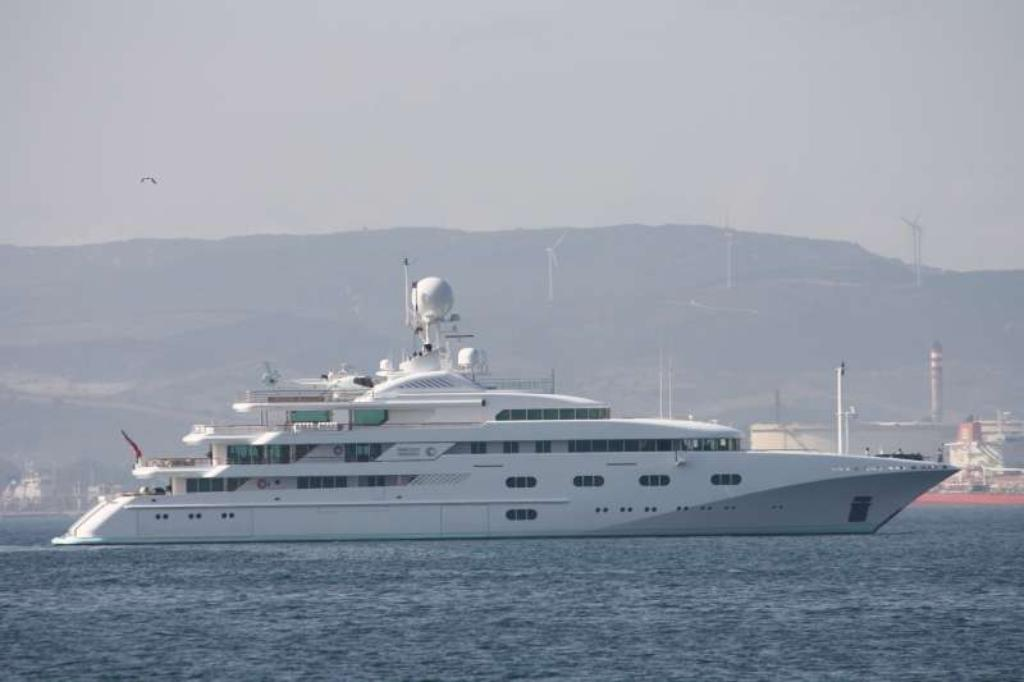PassengerShip: (44, 272, 974, 542)
